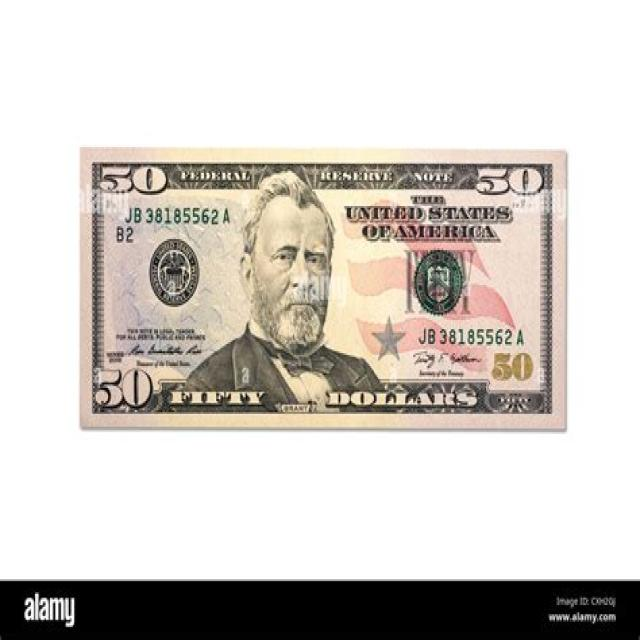Fifty: (80, 146, 568, 433)
